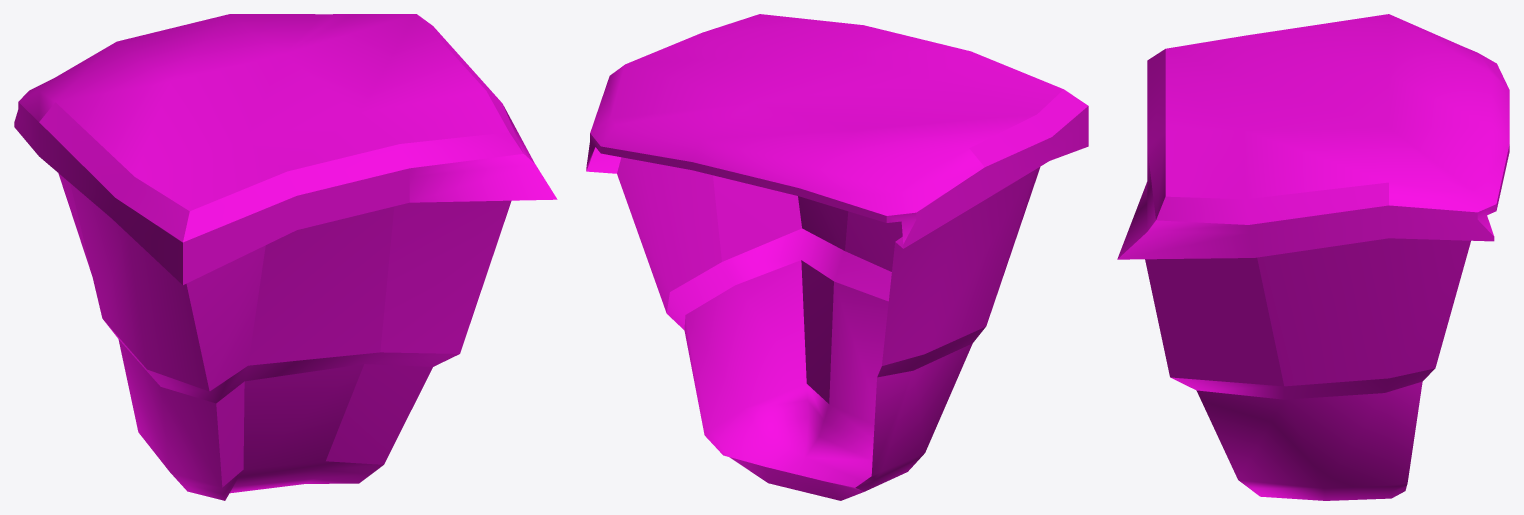
Rendered from Plat2_big_Mesh.FBX.
The picture shows the model from 3 angles, left to right: view 1: azimuth 30°, elevation 25°; view 2: azimuth 150°, elevation 25°; view 3: azimuth 270°, elevation 25°; orthographic projection. The views are drawn at different scales.
Visible parts, largest first — view 1: Plattform1; view 2: Plattform1; view 3: Plattform1.
Boxes of the visible parts, left/top/right/bottom form: Plattform1: left=14, top=14, right=557, bottom=500; Plattform1: left=586, top=14, right=1088, bottom=500; Plattform1: left=1117, top=14, right=1509, bottom=500.
Size of the model in its own units: 24 by 23.56 by 21.67.
